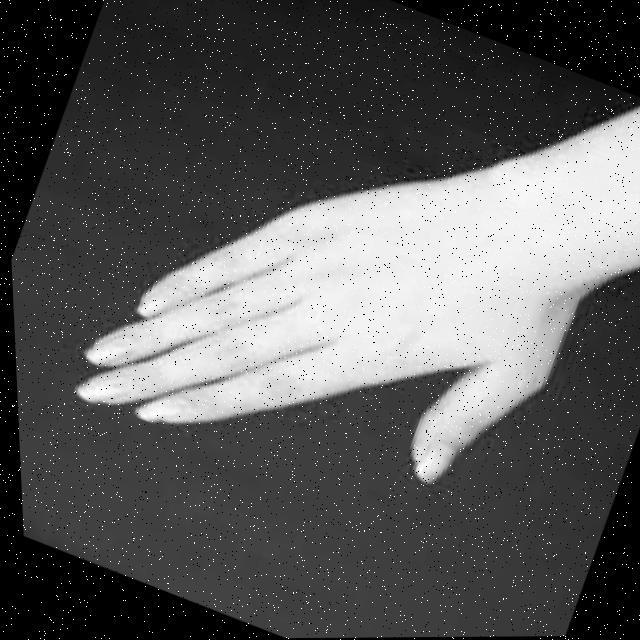no-gloves: (48, 84, 609, 566)
